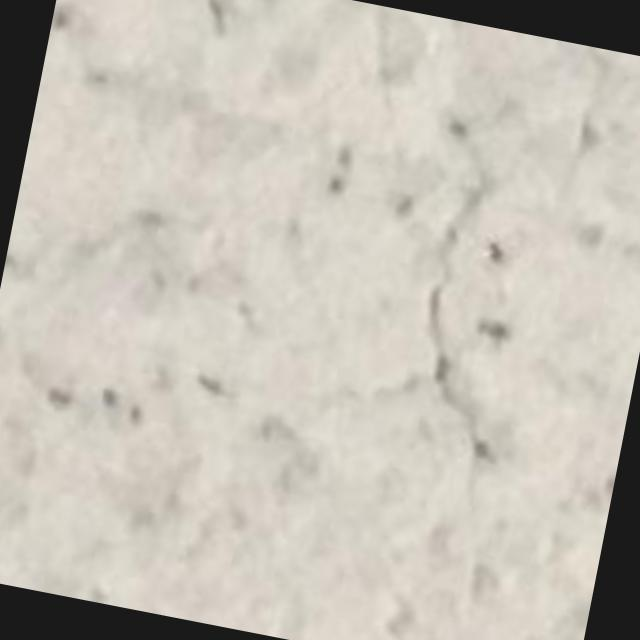crack: (426, 166, 494, 452)
